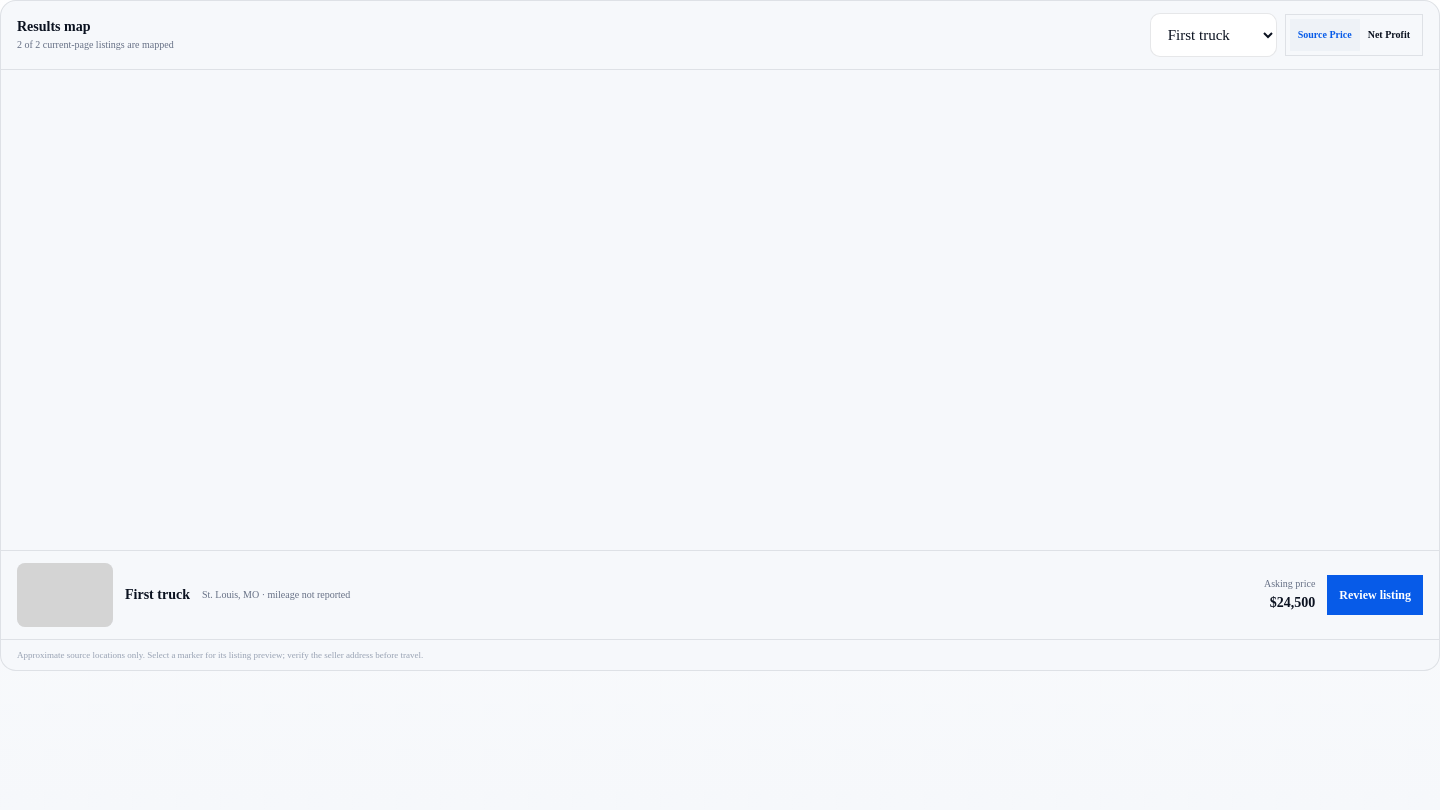
Test case: smart market exploration › lets a user inspect mapped listings and open the selected result
Select "Second truck" in the dropdown named "Inspect mapped listing" at (1213, 35), box [1150,13,1277,57]
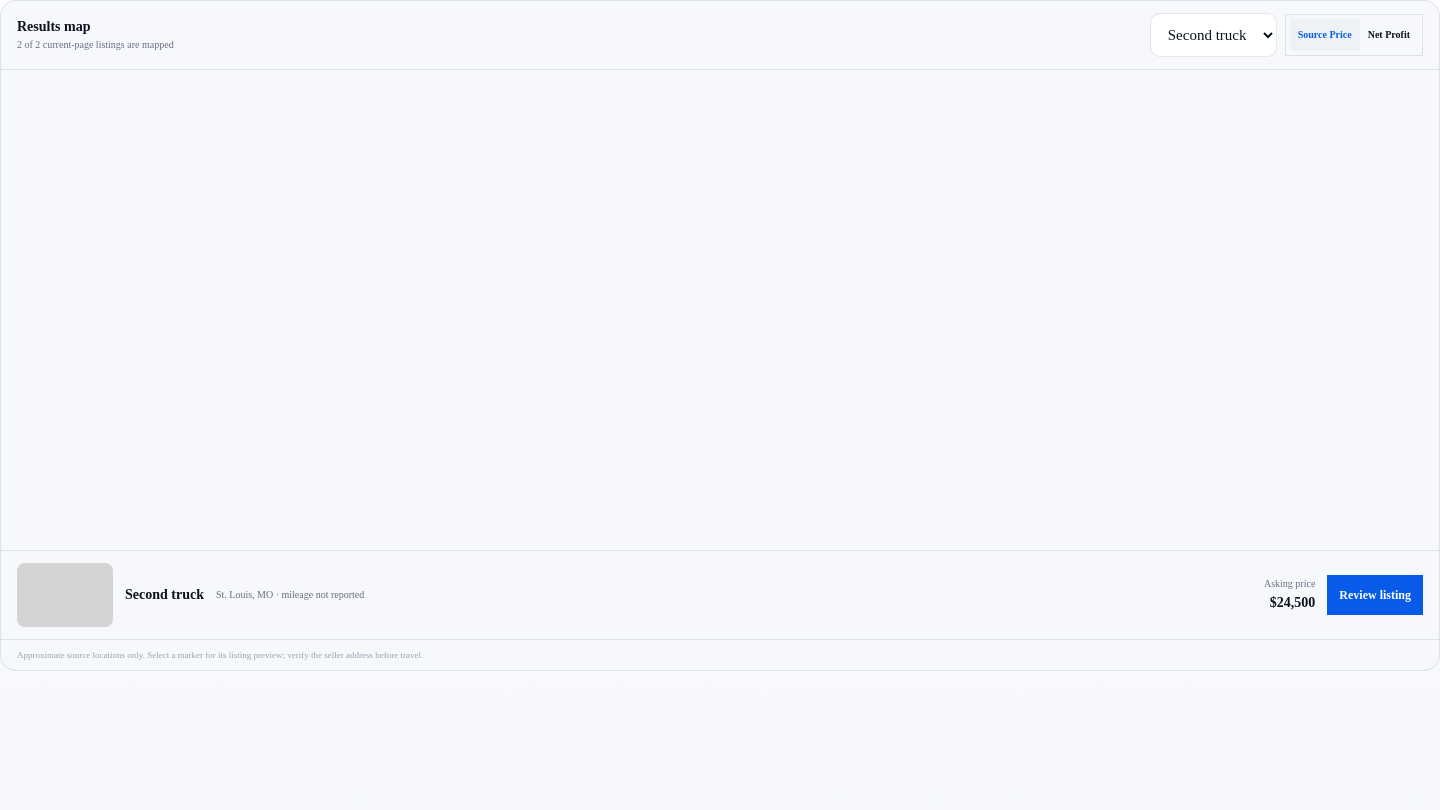
Expected: the link to "/deal/two" reads "Review listing", [1327,575,1423,615]
Now the text "Second truck" is shown, box [125,585,204,605]
